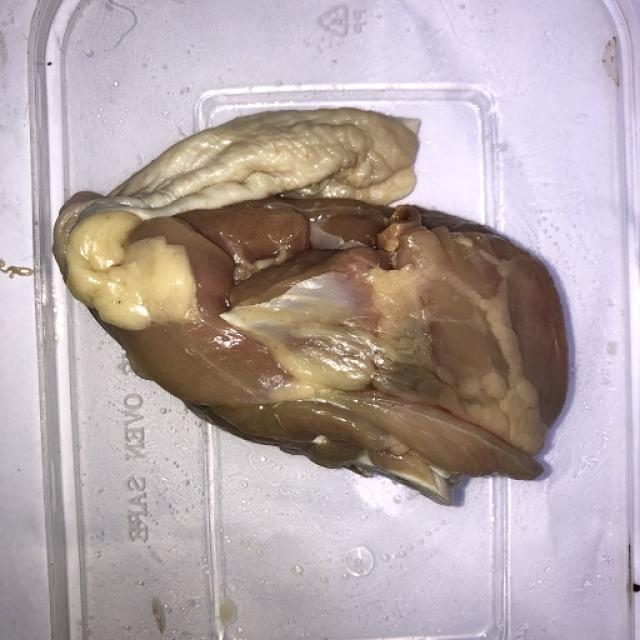chicken: (51, 106, 569, 506)
